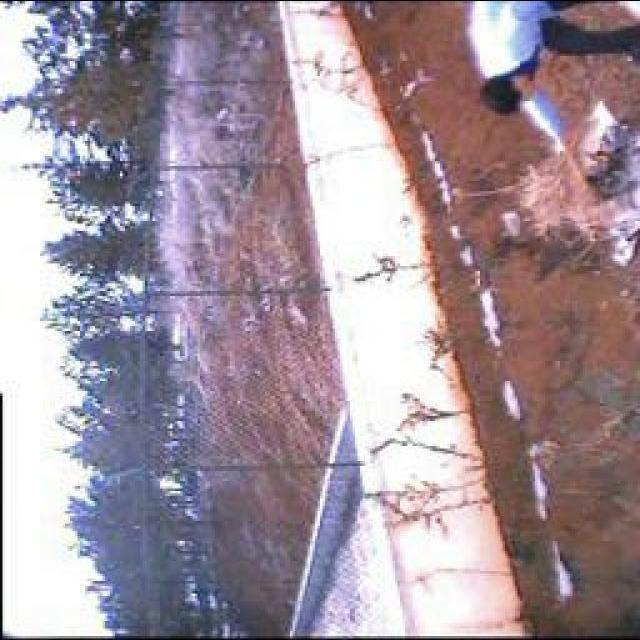Fire: (592, 138, 613, 184)
